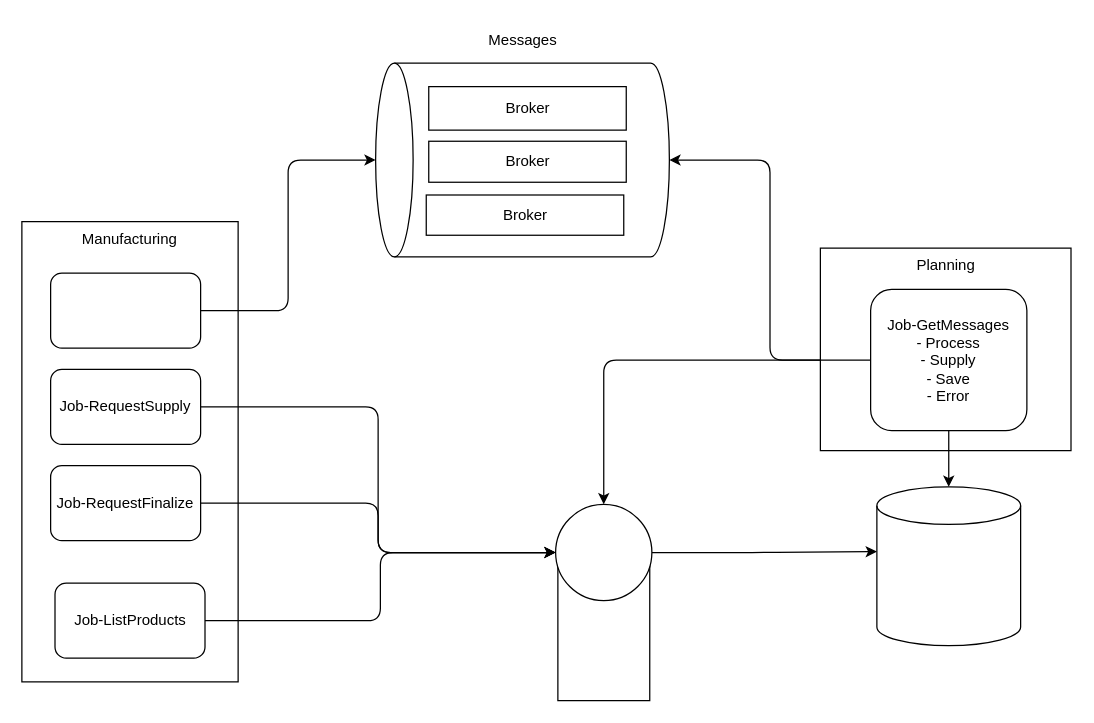
The diagram is 1094 pixels wide and 723 high, and some of its shapes have lost their labels. Each missing label, with the centre of its shape:
"- products - finalize - supply - approve - error" goes at (603,629).
"API" goes at (603,552).
"Database" goes at (948,566).
"Job-SendEntries" goes at (125,310).
